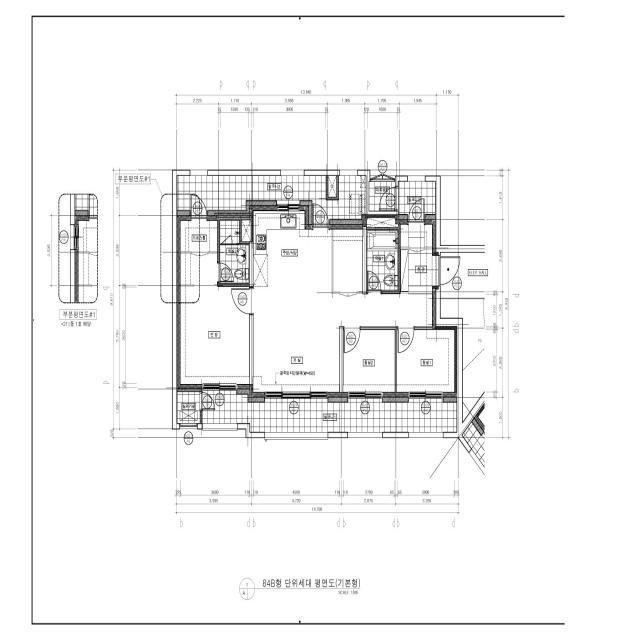background: (0, 0, 640, 640)
space_balconi: (202, 390, 457, 432), (177, 176, 366, 226), (399, 182, 435, 220)
space_bedroom: (177, 286, 249, 385), (397, 330, 457, 392), (343, 330, 395, 392)
space_dressroom: (177, 220, 217, 284)
space_elevator_hall: (440, 252, 485, 298)
space_front: (400, 250, 438, 294)
space_kitchen: (253, 211, 332, 294)
space_living_room: (253, 294, 436, 392)
space_other: (333, 225, 363, 292), (401, 224, 435, 247), (369, 182, 395, 211), (367, 218, 398, 227), (242, 220, 251, 241), (328, 176, 336, 197)
space_outdoor_room: (177, 392, 200, 423)
space_toilet: (367, 230, 398, 291), (220, 220, 249, 283)
